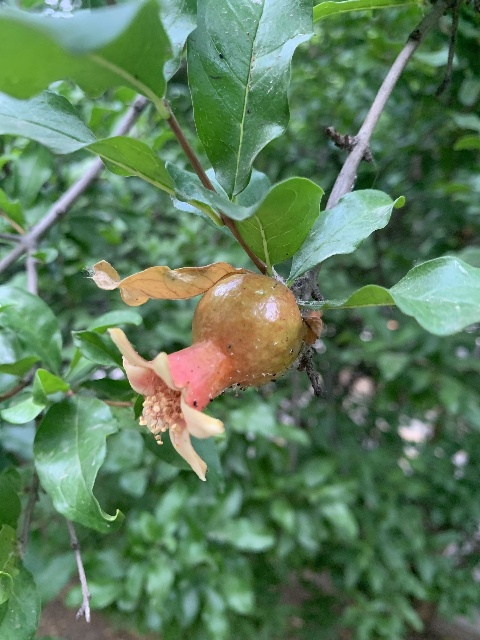early-fruit: (106, 271, 303, 483)
